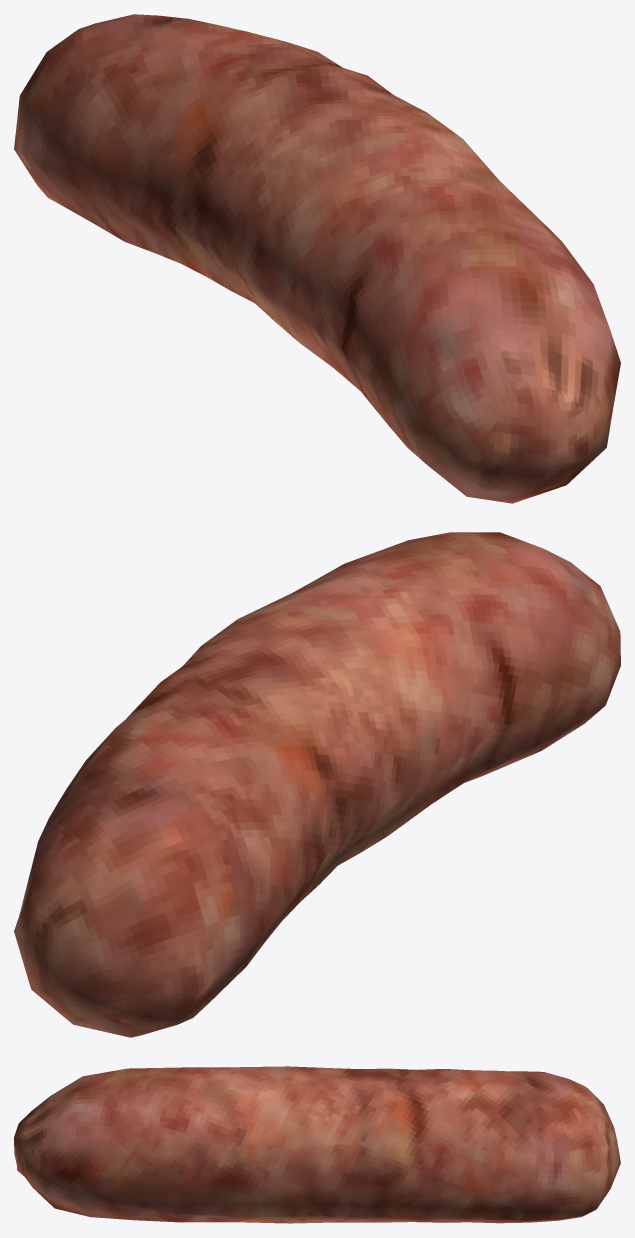
File: ref_bbqsausage.fbx
The picture shows the model from 3 angles, top to bottom: view 1: azimuth 30°, elevation 25°; view 2: azimuth 150°, elevation 25°; view 3: azimuth 270°, elevation 25°; orthographic projection. The views are drawn at different scales.
Parts seen in each view (by area): view 1: ref_bbqsausage; view 2: ref_bbqsausage; view 3: ref_bbqsausage.
Boxes of the visible parts, left/top/right/bottom form: ref_bbqsausage: left=14, top=14, right=620, bottom=503; ref_bbqsausage: left=14, top=532, right=620, bottom=1037; ref_bbqsausage: left=14, top=1066, right=620, bottom=1223.
Bounding box in the file's own units: 29.87 × 27.01 × 100.
Materials: 1 (1 with a texture image).
